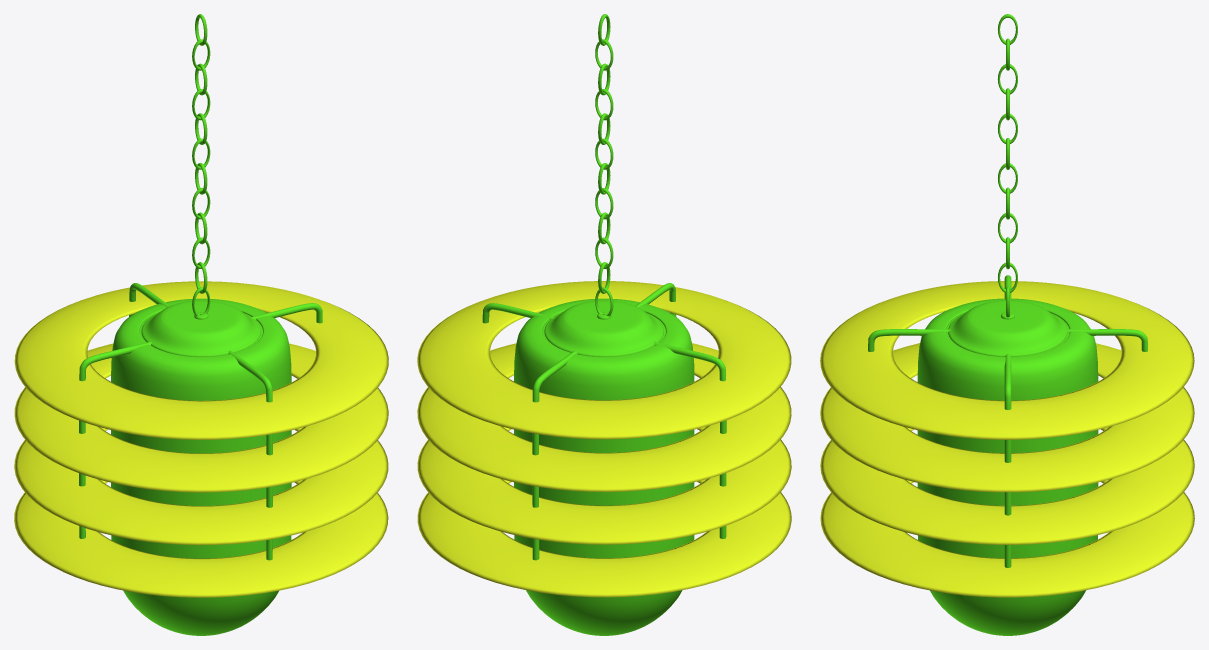
The model's file is LamparaComedor.fbx.
3 views of the same model, side by side, from view 1: azimuth 30°, elevation 25°; view 2: azimuth 150°, elevation 25°; view 3: azimuth 270°, elevation 25° (orthographic).
Visible parts, largest first — view 1: Cylinder078, Cylinder077, Line039, Torus002, Torus001; view 2: Cylinder078, Cylinder077, Line039, Torus002, Torus001; view 3: Cylinder078, Cylinder077, Line039, Torus002, Torus001.
Part boxes in pixels (<box>): Cylinder078: <box>14,281,388,597</box>; Cylinder077: <box>111,298,291,635</box>; Line039: <box>79,283,322,560</box>; Torus002: <box>195,14,207,293</box>; Torus001: <box>192,39,210,316</box>; Cylinder078: <box>417,281,791,597</box>; Cylinder077: <box>514,298,694,635</box>; Line039: <box>482,283,726,560</box>; Torus002: <box>598,14,610,293</box>; Torus001: <box>595,39,613,316</box>; Cylinder078: <box>820,281,1194,597</box>; Cylinder077: <box>917,298,1098,635</box>; Line039: <box>868,275,1147,567</box>; Torus002: <box>997,14,1017,292</box>; Torus001: <box>1006,38,1009,317</box>.
Size of the model in its own units: 63.54 by 115 by 63.58.
